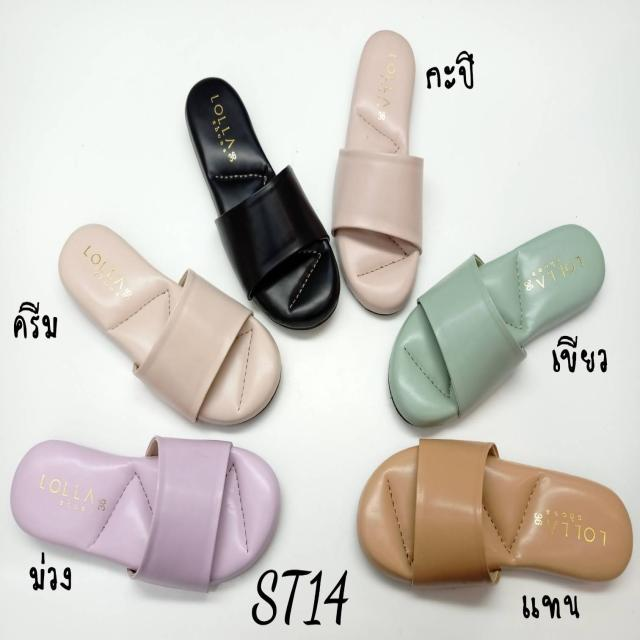black: (185, 77, 340, 326)
cream: (60, 218, 282, 436)
green: (380, 222, 609, 426)
kapi: (342, 31, 423, 312)
purple: (18, 438, 282, 589)
tan: (359, 439, 631, 594)
